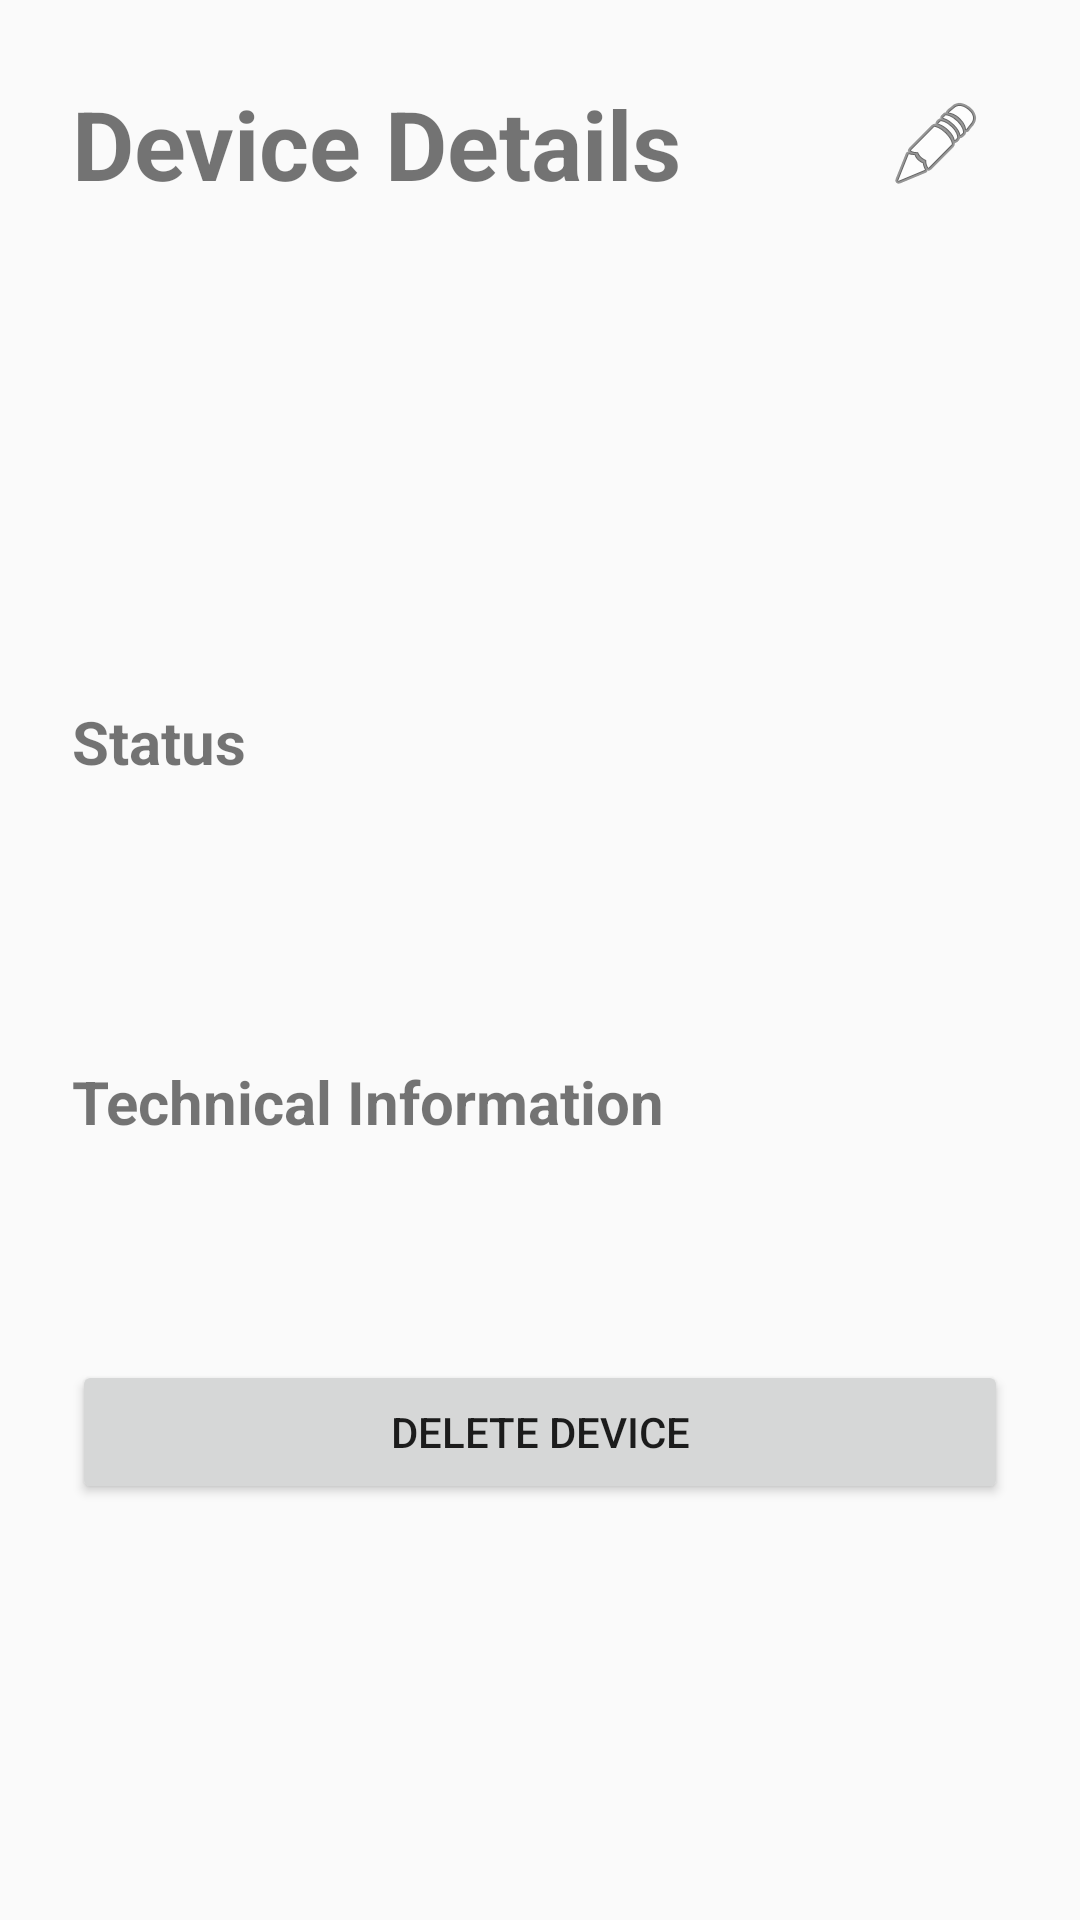

Locate icon controls on the screen. Image size 1080px×1920px, boxes as (x1, y1, x2, y2).
Edit Device: (895, 103, 976, 184)
